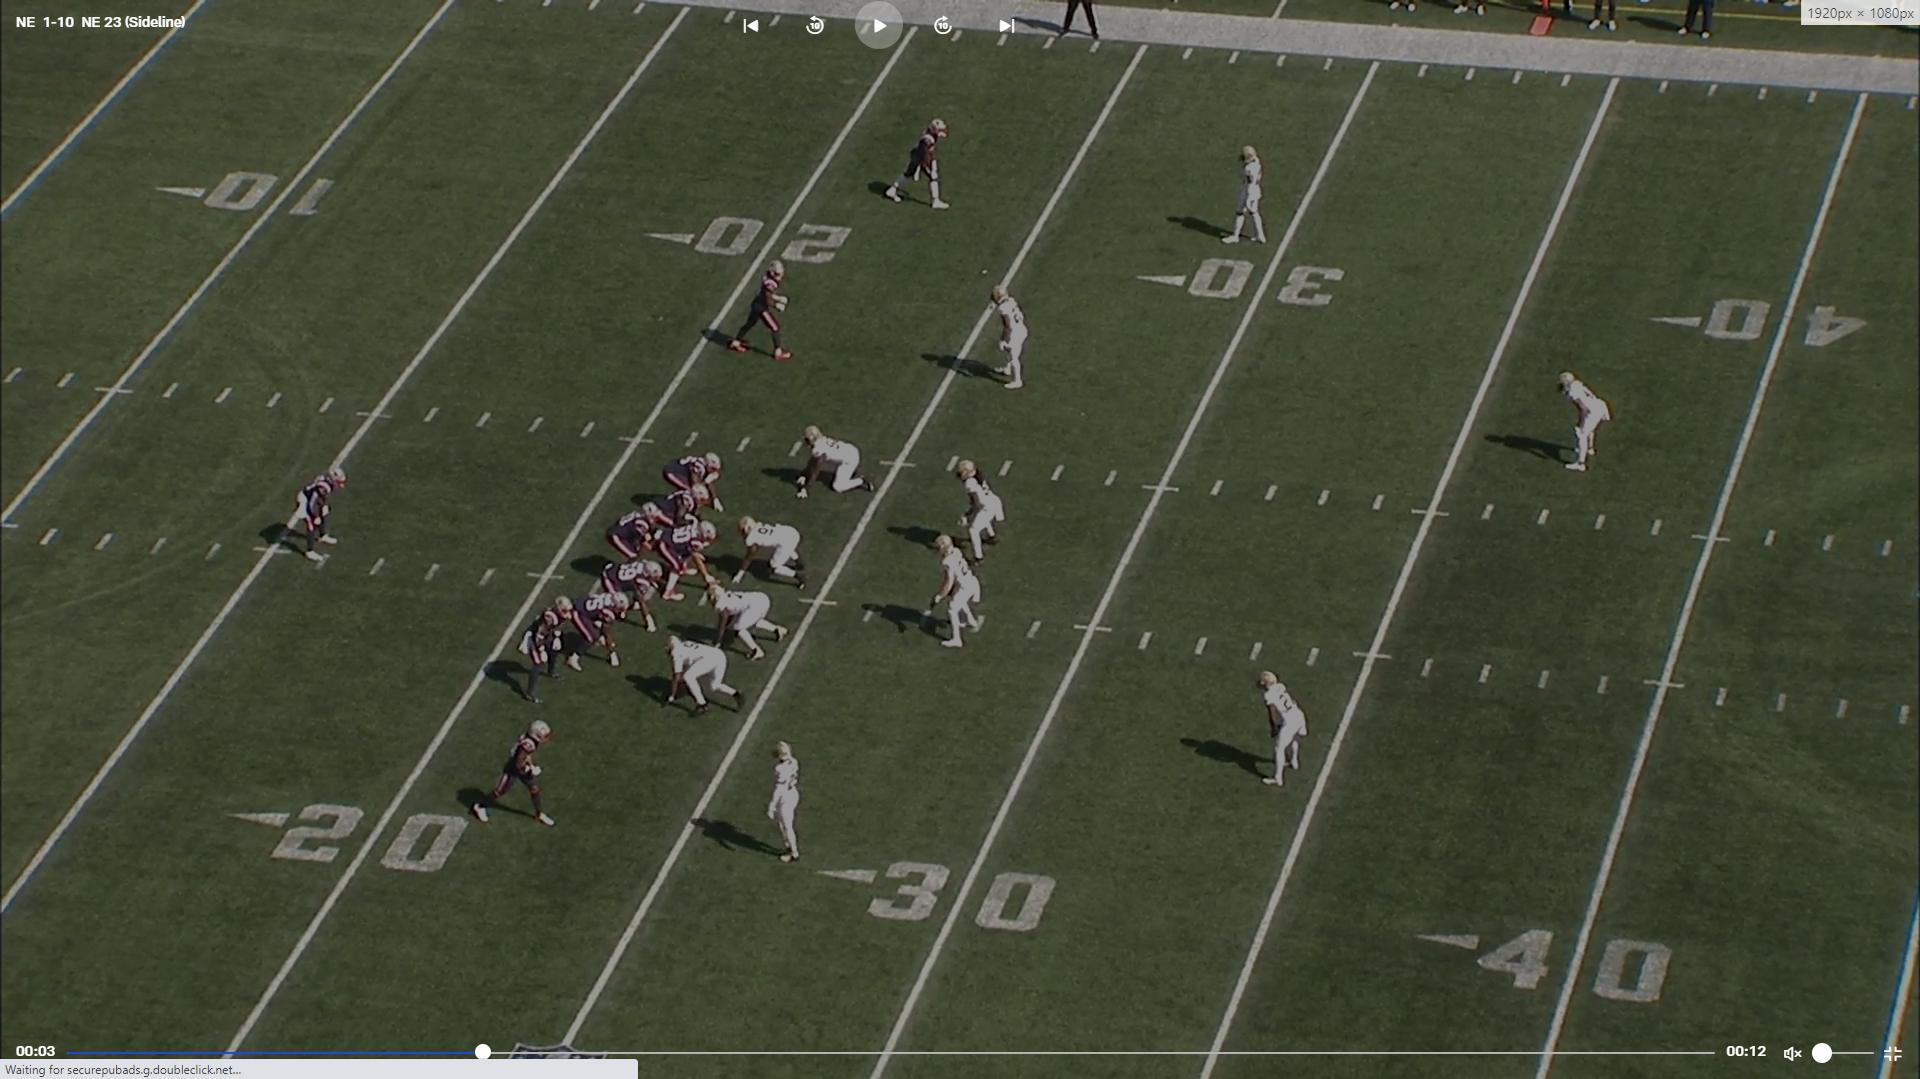defense: (667, 637, 752, 719), (702, 582, 785, 660), (932, 532, 984, 654), (760, 737, 807, 868), (1257, 670, 1308, 790), (796, 426, 877, 500), (955, 458, 1007, 570), (1559, 371, 1613, 478), (732, 518, 808, 591), (1226, 141, 1275, 251), (994, 282, 1038, 394)
oline: (563, 591, 632, 671), (658, 521, 725, 600), (597, 557, 667, 632), (667, 451, 729, 517), (646, 489, 715, 529)
qb: (612, 500, 662, 570)
ref: (1050, 0, 1105, 44)
skill: (469, 716, 564, 831), (723, 253, 796, 367), (884, 115, 960, 218), (291, 460, 349, 566), (526, 594, 580, 702)
